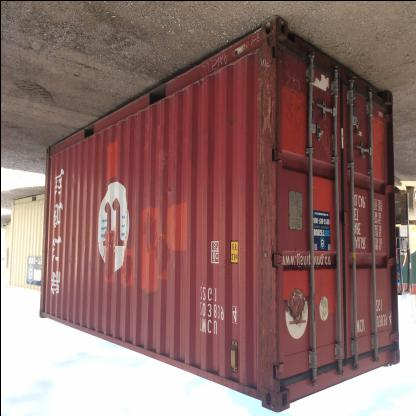Damage: (253, 170, 275, 274), (254, 49, 272, 153), (259, 279, 277, 383), (149, 131, 181, 181), (198, 119, 212, 143)
